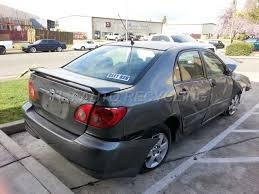Dent: (88, 122, 160, 165)
Smashed: (221, 75, 251, 115)
